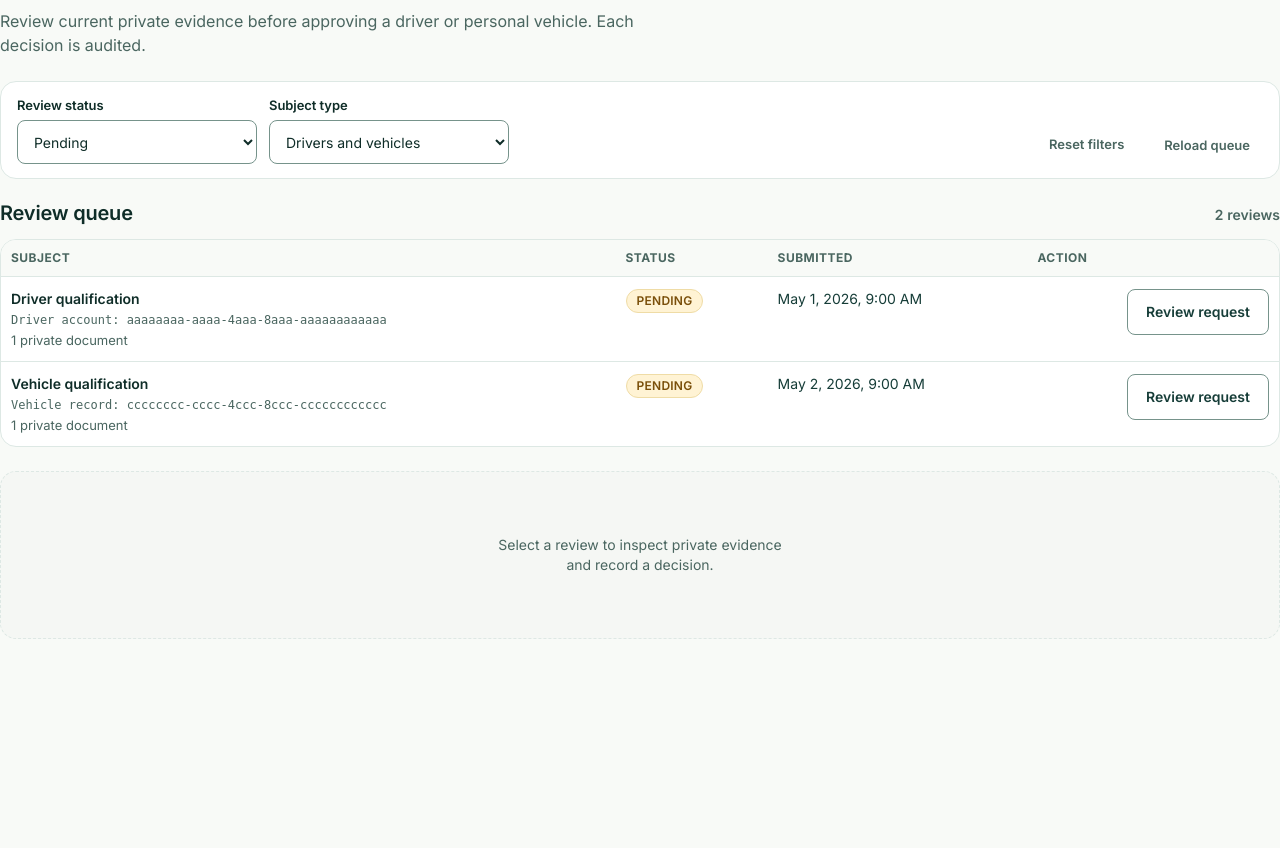
Test: clears an unsaved decision and reason when the admin switches to another request
Click the button with aria-label "Review driver request 1": (1198, 312) [1127,289,1269,335]
(page scrolled)
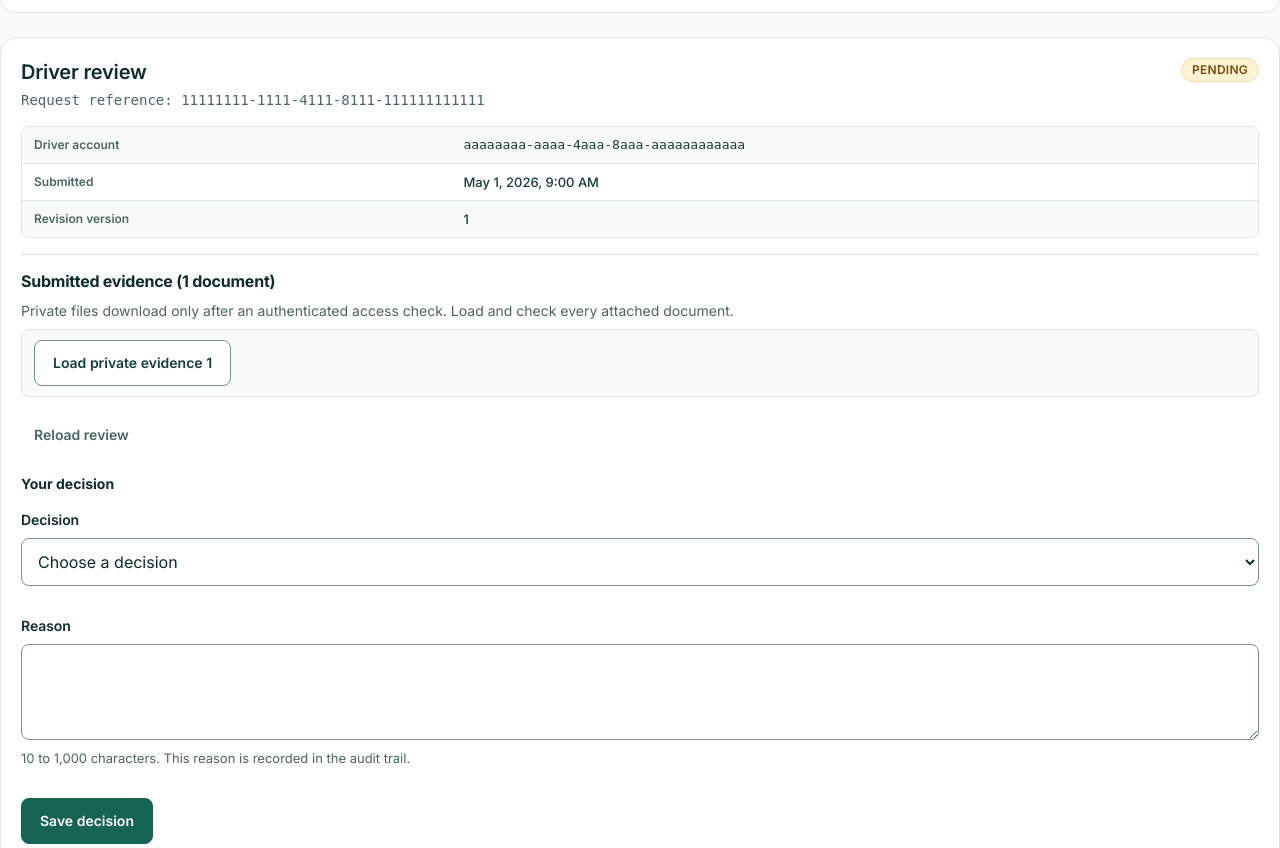
Result: the form named "Review decision" is shown at [21,473,1259,844]
Select "Approve" in the dropdown labelled "Decision": (640, 562) [21,538,1259,586]
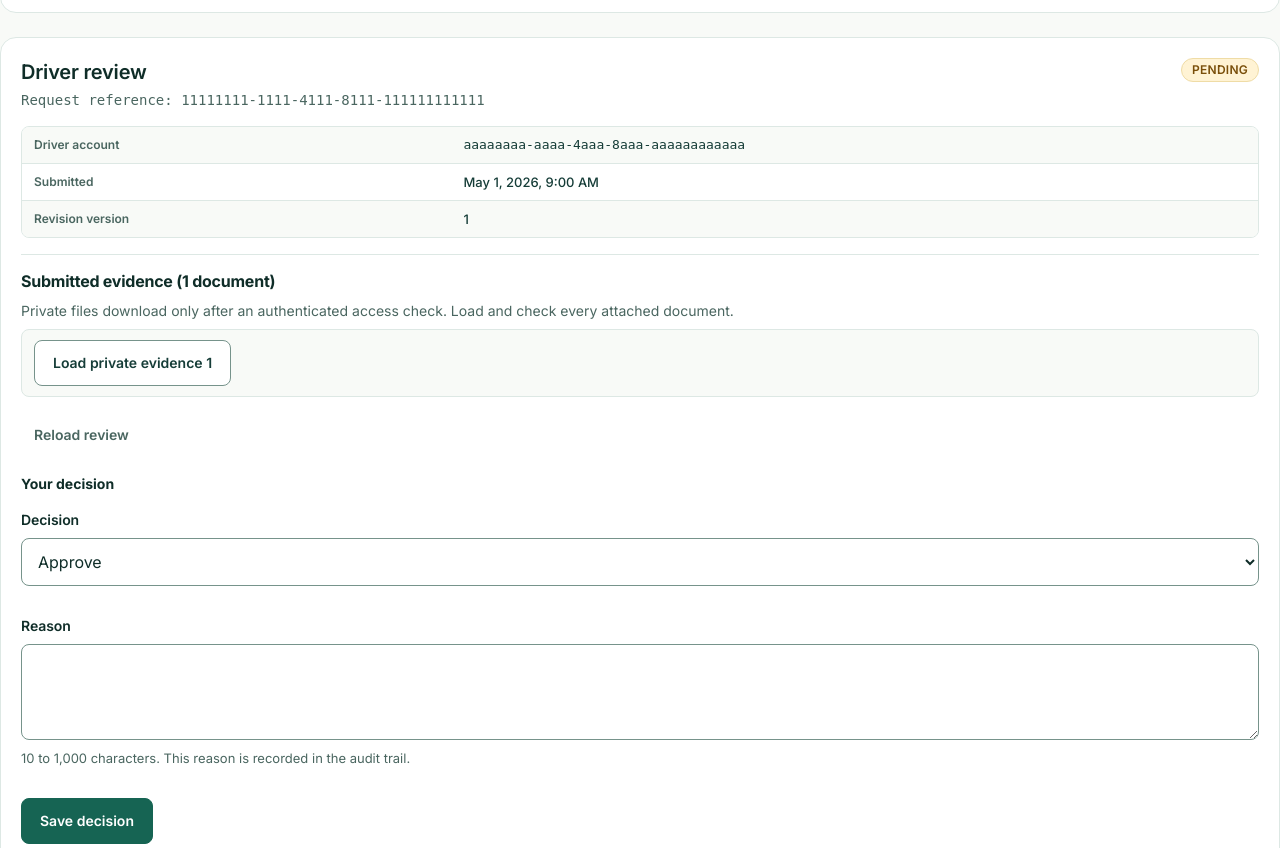
In the text box labelled "Reason": (640, 692) [21,644,1259,740], type "Documents look valid for this driver"
(page scrolled)
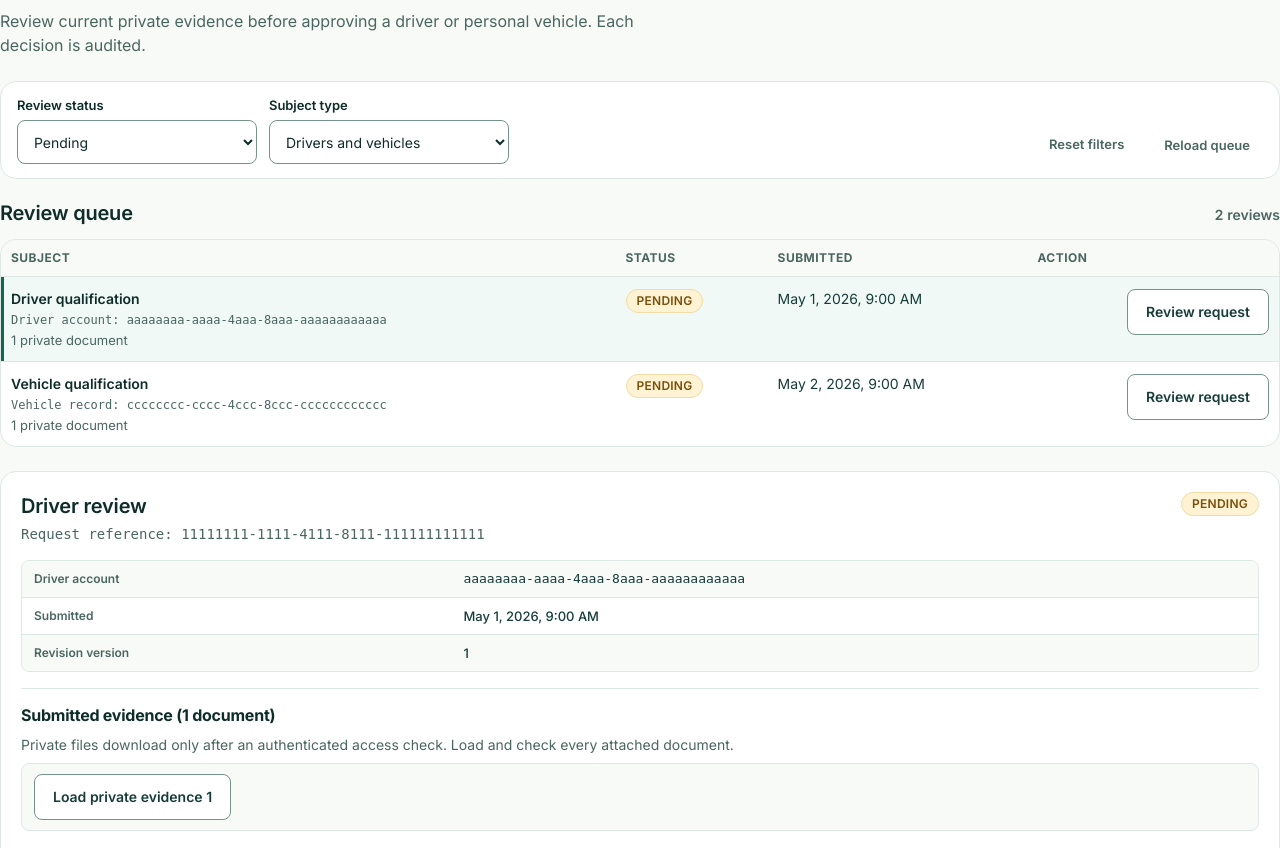
Click the button with aria-label "Review vehicle request 2": (1198, 397) [1127,374,1269,420]
(page scrolled)
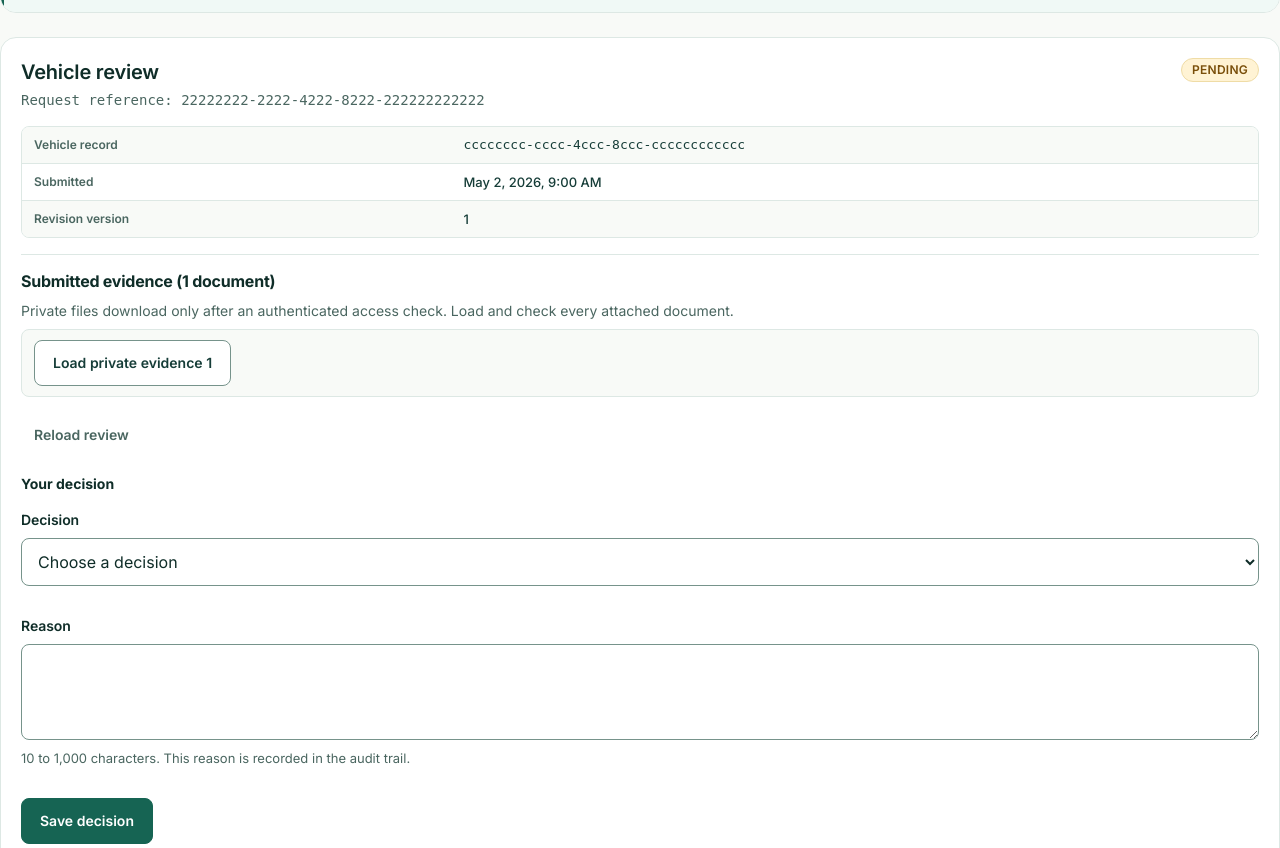
Result: the dropdown labelled "Decision" shows "Choose a decision" at [21,538,1259,586]
Result: the text box labelled "Reason" is empty at [21,644,1259,740]
